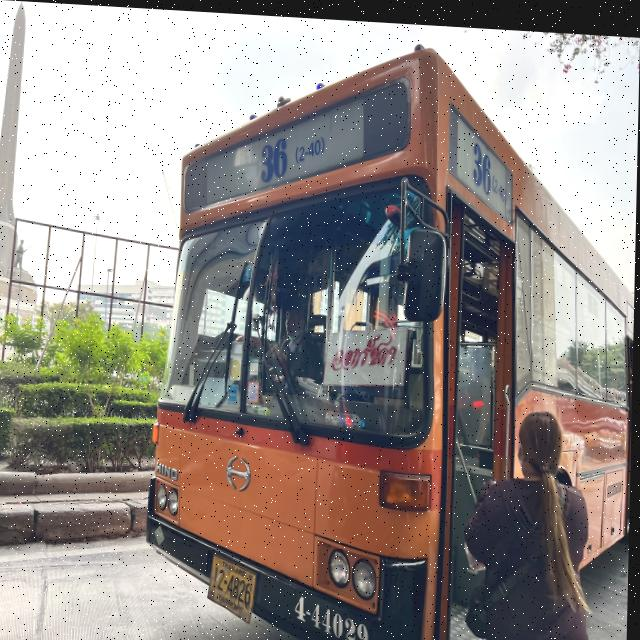BMTA-bus: (146, 27, 640, 640)
Bus-Line-Number: (263, 115, 329, 183), (466, 136, 512, 205)
Destination-Sign-Extra-Bus: (328, 323, 410, 380)
